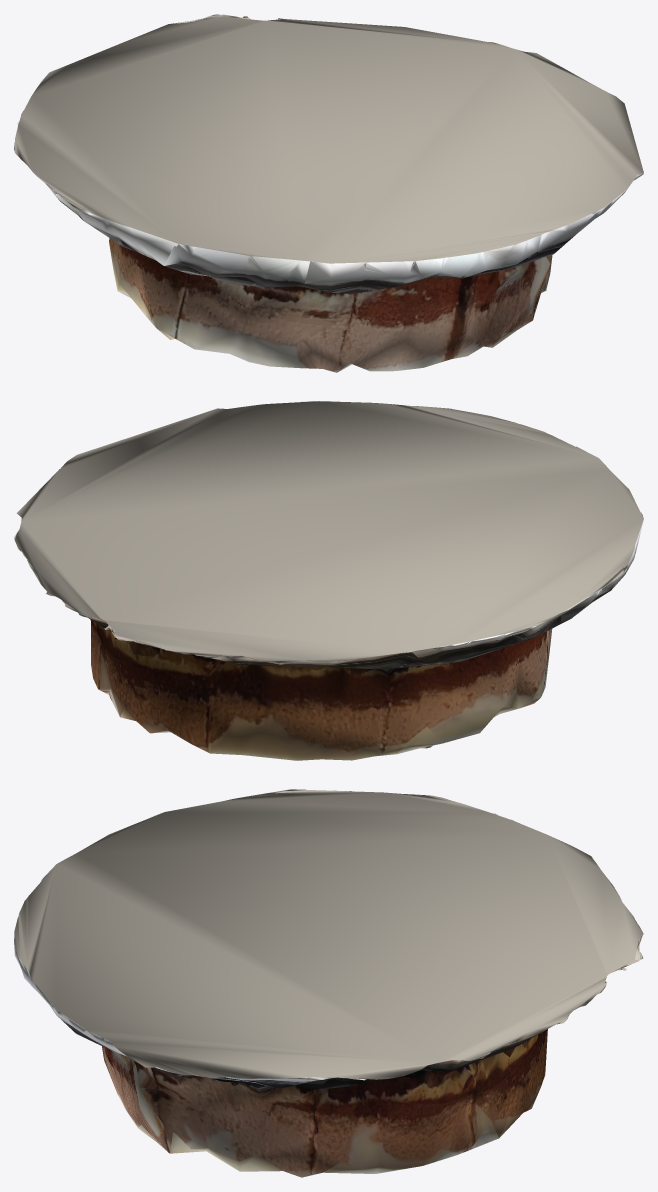
The model's file is cake_1294.obj.
3 views of the same model, one above another, from view 1: azimuth 30°, elevation 25°; view 2: azimuth 150°, elevation 25°; view 3: azimuth 270°, elevation 25° (orthographic). The views are drawn at different scales.
Bounding box in the file's own units: 0.1769 × 0.0547 × 0.1767.
1 material, 1 textured.
